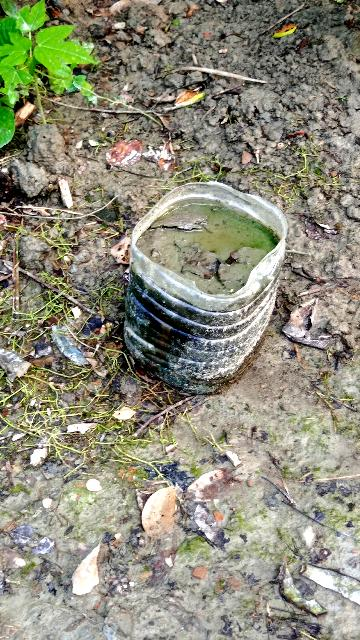bottle: (124, 255, 288, 386)
